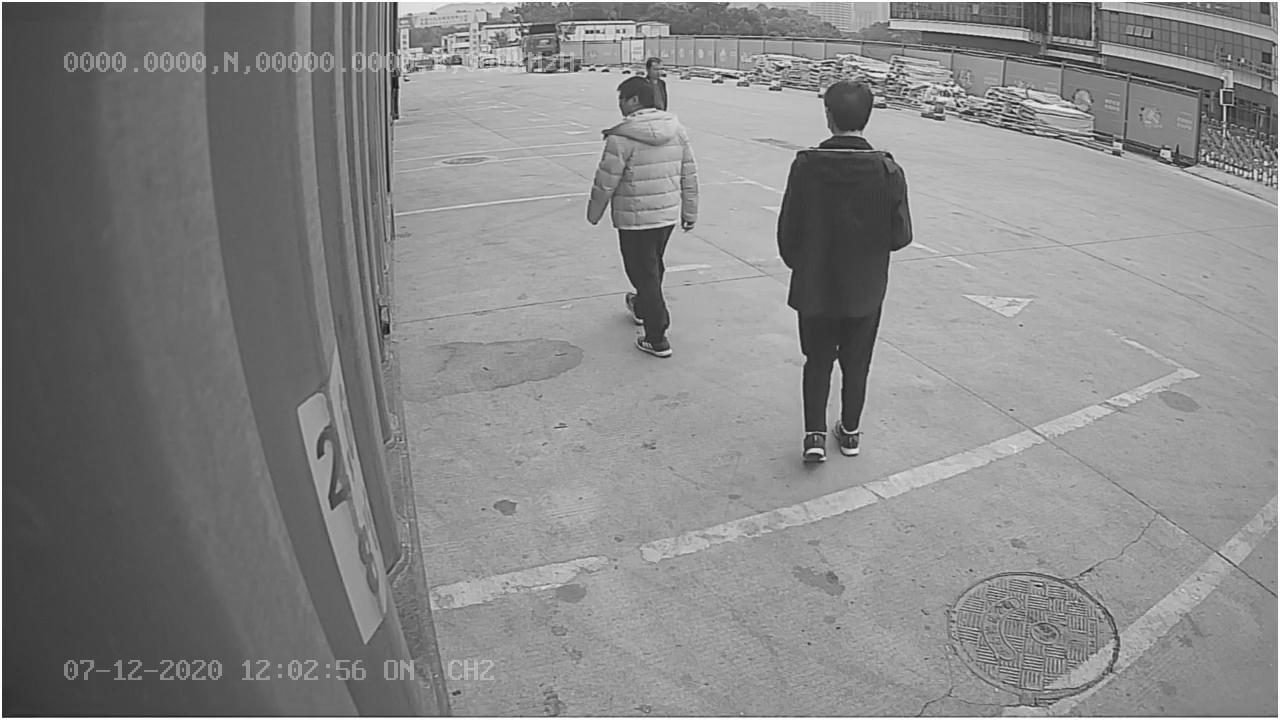person: (770, 79, 911, 464)
